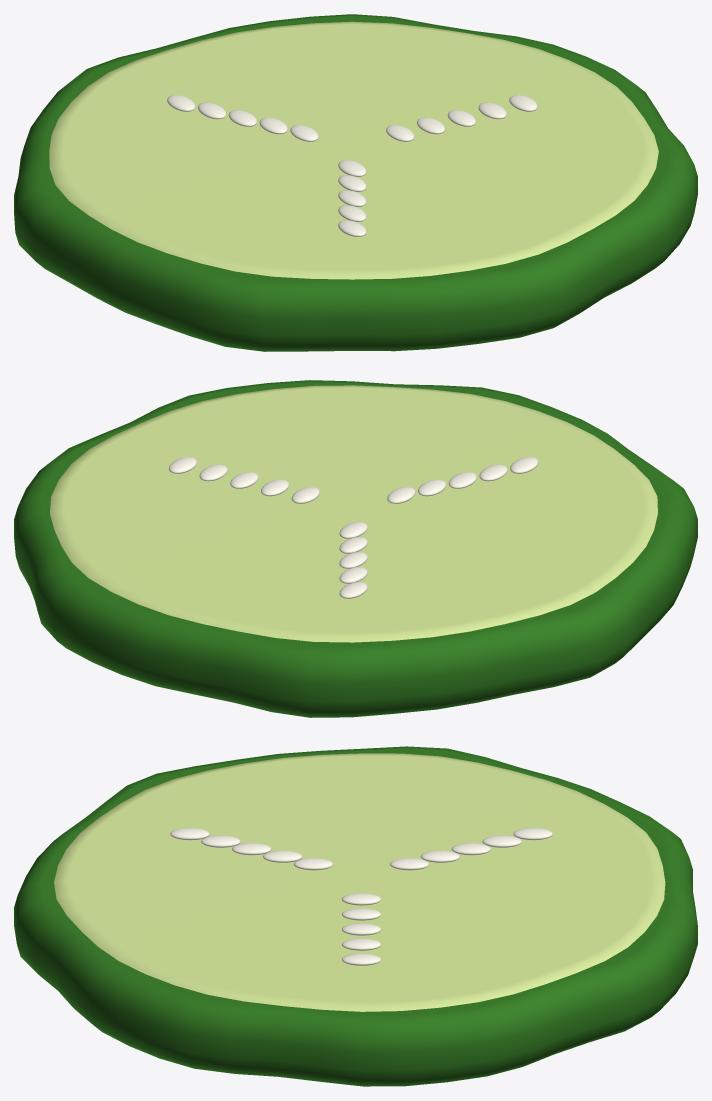
File: item_cucumber.glb
3 views of the same model, one above another, from view 1: azimuth 30°, elevation 25°; view 2: azimuth 150°, elevation 25°; view 3: azimuth 270°, elevation 25° (orthographic).
Parts seen in each view (by area): view 1: きゅうりの皮; view 2: きゅうりの皮; view 3: きゅうりの皮.
Boxes of the visible parts, x1,y1,x2,y2 form: きゅうりの皮: (14,14,697,351); きゅうりの皮: (14,380,697,717); きゅうりの皮: (14,746,697,1086).
Bounding box in the file's own units: 0.867 × 0.109 × 0.8631.
